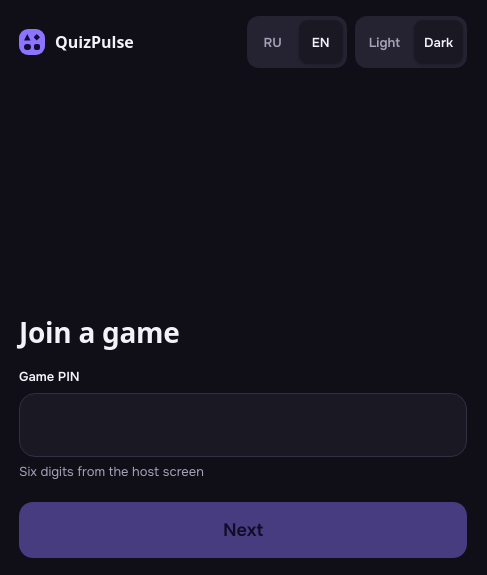
Test: play join › a pasted PIN with a space keeps all six digits
Click the field labelled "Game PIN".
click(243, 425)  # box [19,393,467,457]
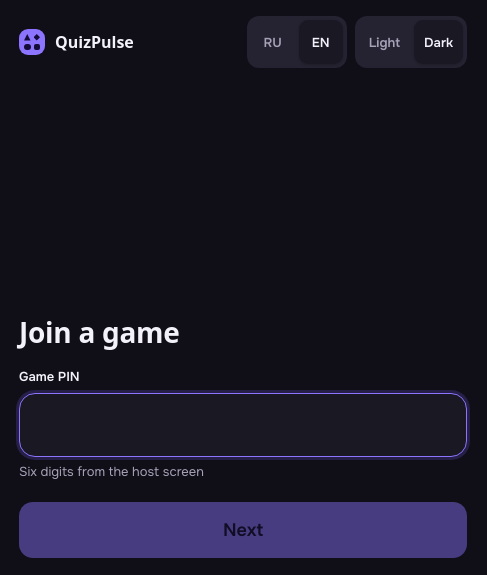
Type keys "482 931"
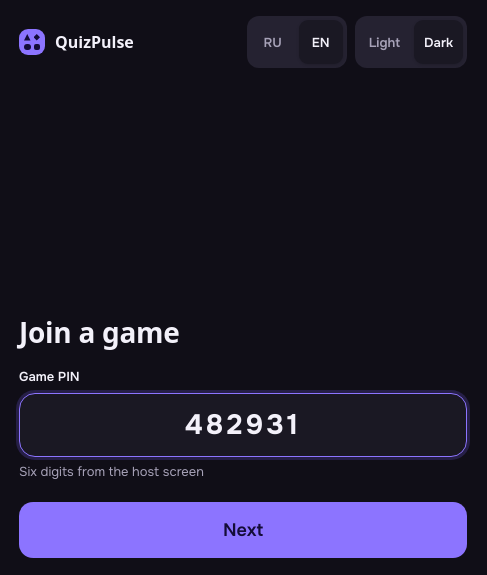
Expected: the field labelled "Game PIN" holds "482931", [19,393,467,457]
Expected: the button "Next" is enabled, [19,502,467,558]
